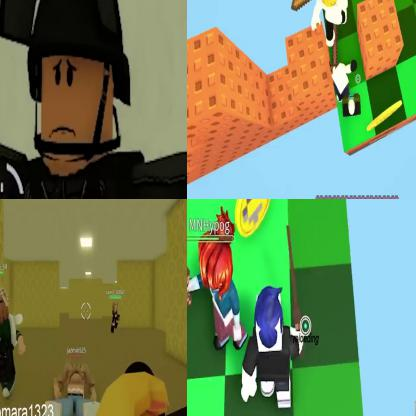Roblox-Avatar: (1, 1, 187, 199), (188, 206, 250, 352), (242, 287, 305, 409), (44, 362, 102, 416), (1, 286, 27, 400), (313, 1, 350, 47), (343, 94, 362, 118), (112, 302, 121, 335)
